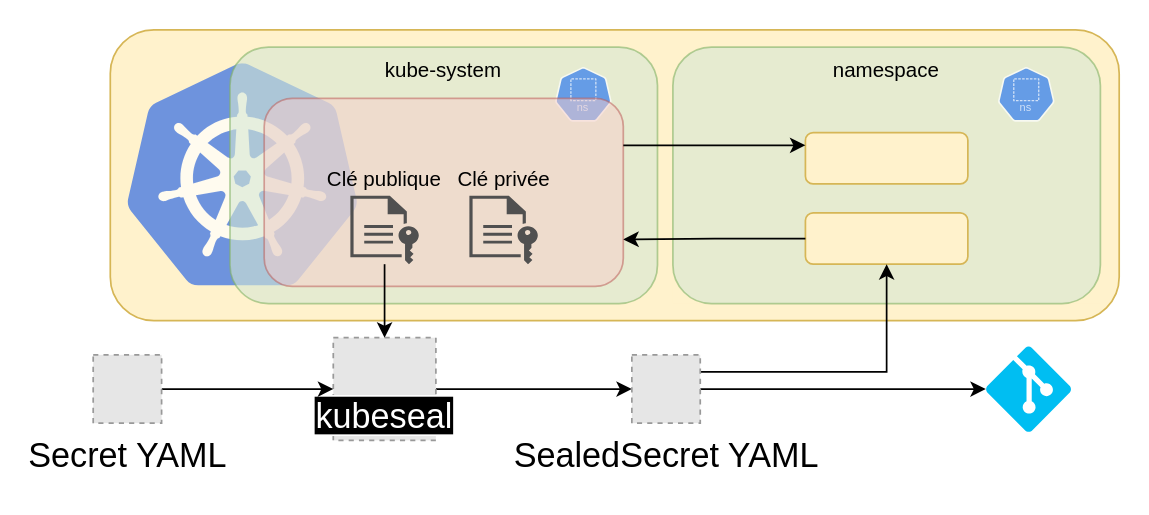
The diagram is 1149 pixels wide and 515 high, and some of its shapes have lost their labels. Grey dashed boxes stand in for pictures. Each missing label, with the box of its shape:
Dépôt git: (985, 345, 1070, 431)
Sealed Secrets Controller: (262, 97, 623, 286)
SealedSecret: (804, 211, 968, 264)
Secret: (804, 131, 968, 184)
